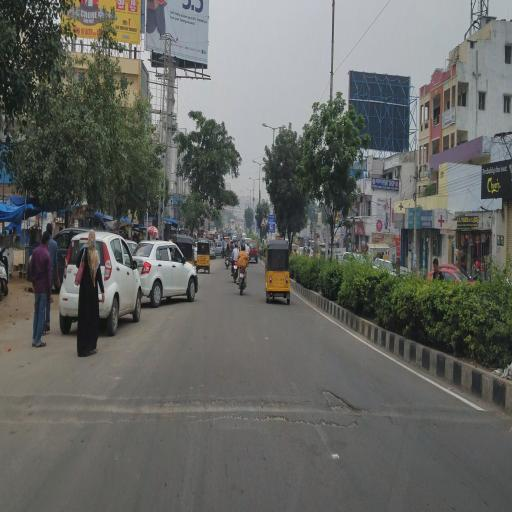street_light_0: (260, 114, 274, 136), (273, 120, 292, 136), (254, 169, 263, 183), (245, 172, 255, 184), (251, 155, 260, 166)
